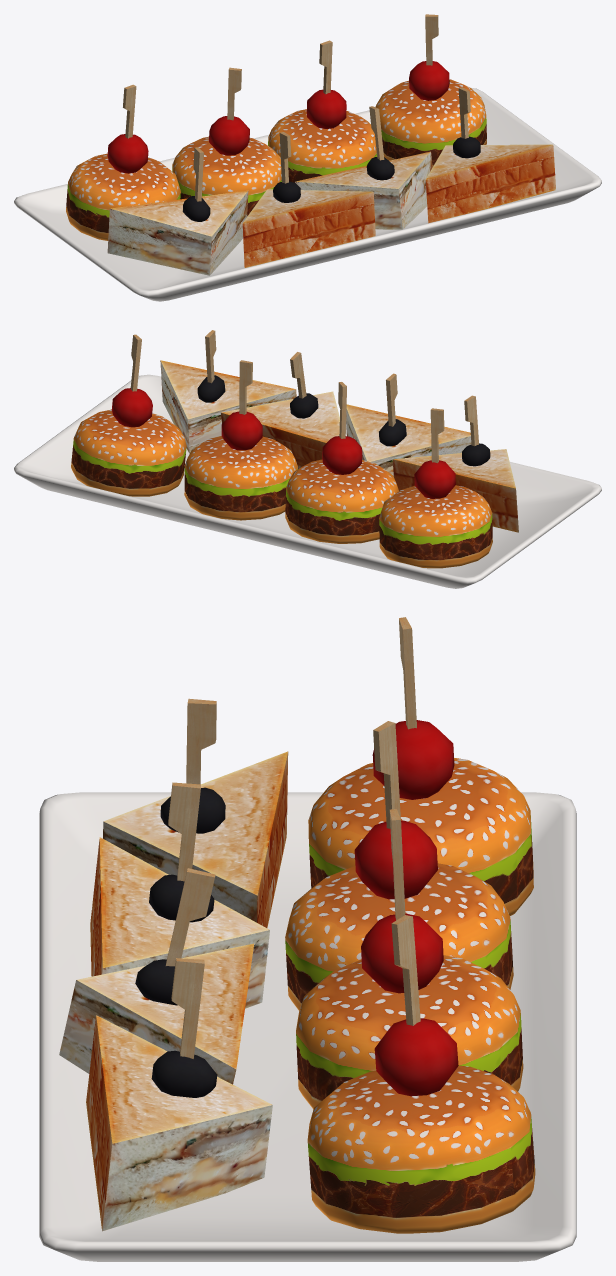
Rendered from BuffetSnacks01_3.FBX.
The picture shows the model from 3 angles, top to bottom: view 1: azimuth 30°, elevation 25°; view 2: azimuth 150°, elevation 25°; view 3: azimuth 270°, elevation 25°; orthographic projection. The views are drawn at different scales.
Visible parts, largest first — view 1: BuffetSnacks01_3; view 2: BuffetSnacks01_3; view 3: BuffetSnacks01_3.
Part boxes in pixels (x1=…): BuffetSnacks01_3: x1=14, y1=14, x2=601, y2=301; BuffetSnacks01_3: x1=14, y1=330, x2=601, y2=588; BuffetSnacks01_3: x1=39, y1=617, x2=576, y2=1261.
Size of what is drawn, in the model's own units: 0.6 by 0.1758 by 0.3.
